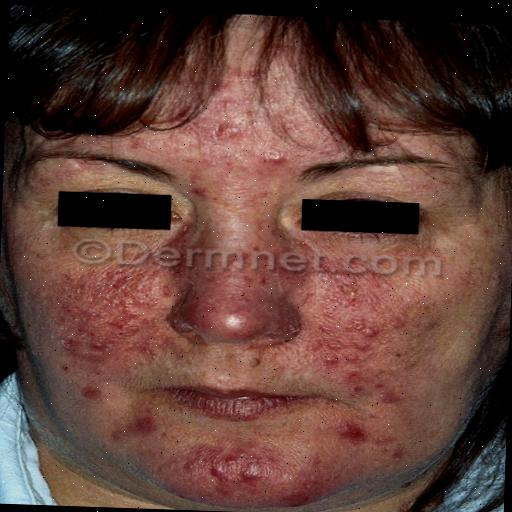Skin_Lesion: (168, 189, 222, 285), (70, 317, 156, 363), (202, 443, 273, 496), (318, 261, 366, 307), (302, 336, 348, 376), (100, 268, 156, 300), (220, 298, 264, 332), (350, 312, 388, 350), (274, 478, 320, 508), (392, 309, 430, 345), (216, 106, 246, 148), (337, 409, 367, 448), (126, 402, 156, 440), (357, 364, 392, 396), (70, 371, 104, 403), (261, 147, 290, 177), (387, 438, 415, 468), (238, 62, 259, 88)
